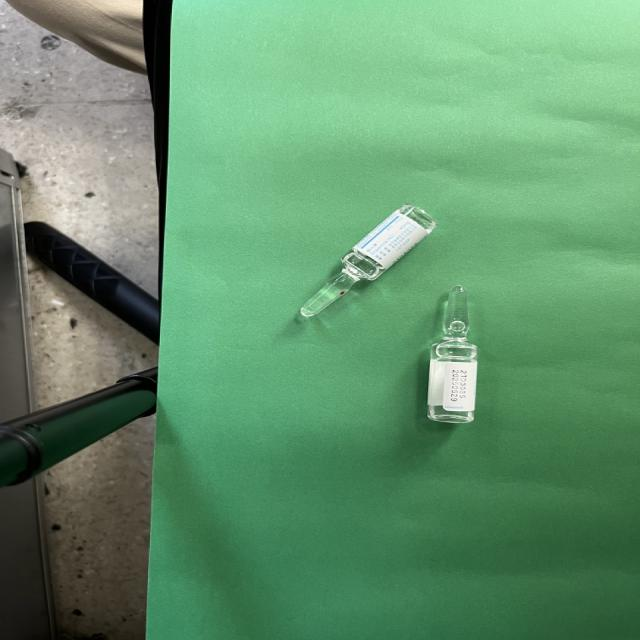Ampoules: (300, 205, 435, 318), (427, 286, 477, 424)
